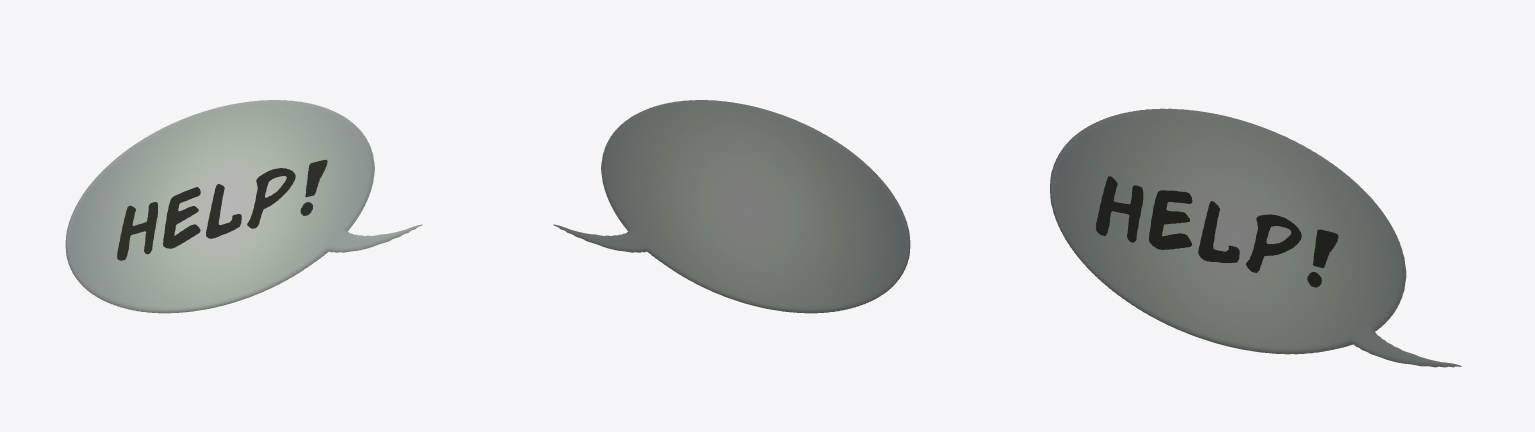
Rendered from Help Baloon A.FBX.
The picture shows the model from 3 angles, left to right: view 1: azimuth 30°, elevation 25°; view 2: azimuth 150°, elevation 25°; view 3: azimuth 330°, elevation 25°; orthographic projection. The views are drawn at different scales.
Parts seen in each view (by area): view 1: Help Baloon A; view 2: Help Baloon A; view 3: Help Baloon A.
Boxes of the visible parts, x1=… form: Help Baloon A: x1=65, y1=100, x2=422, y2=313; Help Baloon A: x1=553, y1=100, x2=910, y2=313; Help Baloon A: x1=1050, y1=108, x2=1461, y2=367.
Size of the model in its own units: 173 by 3.75 by 109.
